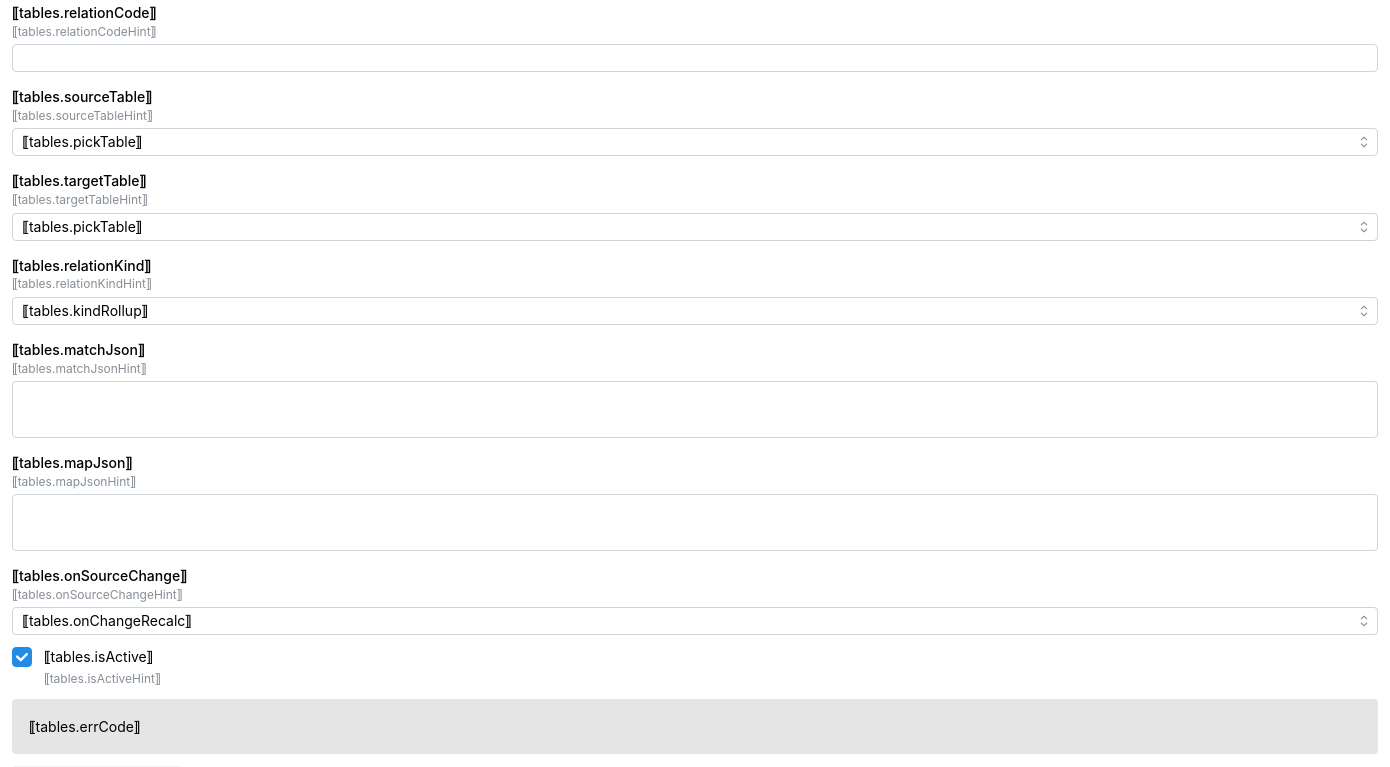
it: RelationForm: «Column mapping» для Kind=Check (аудит-пас 8, lane7, п.12) › перемикання назад із Check на інший Kind знову вмикає поле
Select "⟦tables.kindCheck⟧" in the dropdown labelled "⟦tables.relationKind⟧": (695, 311) [12,297,1378,325]
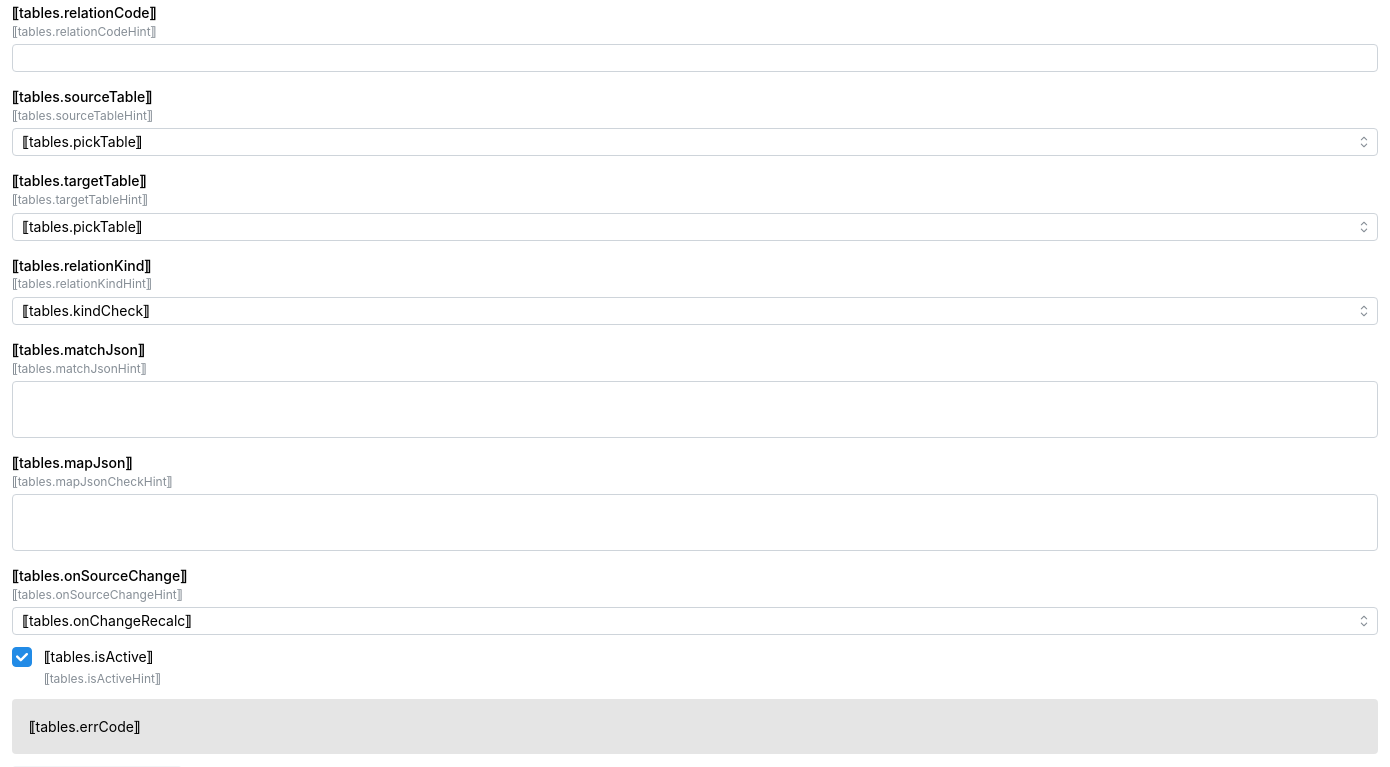
Select "⟦tables.kindMirror⟧" in the dropdown labelled "⟦tables.relationKind⟧": (695, 311) [12,297,1378,325]
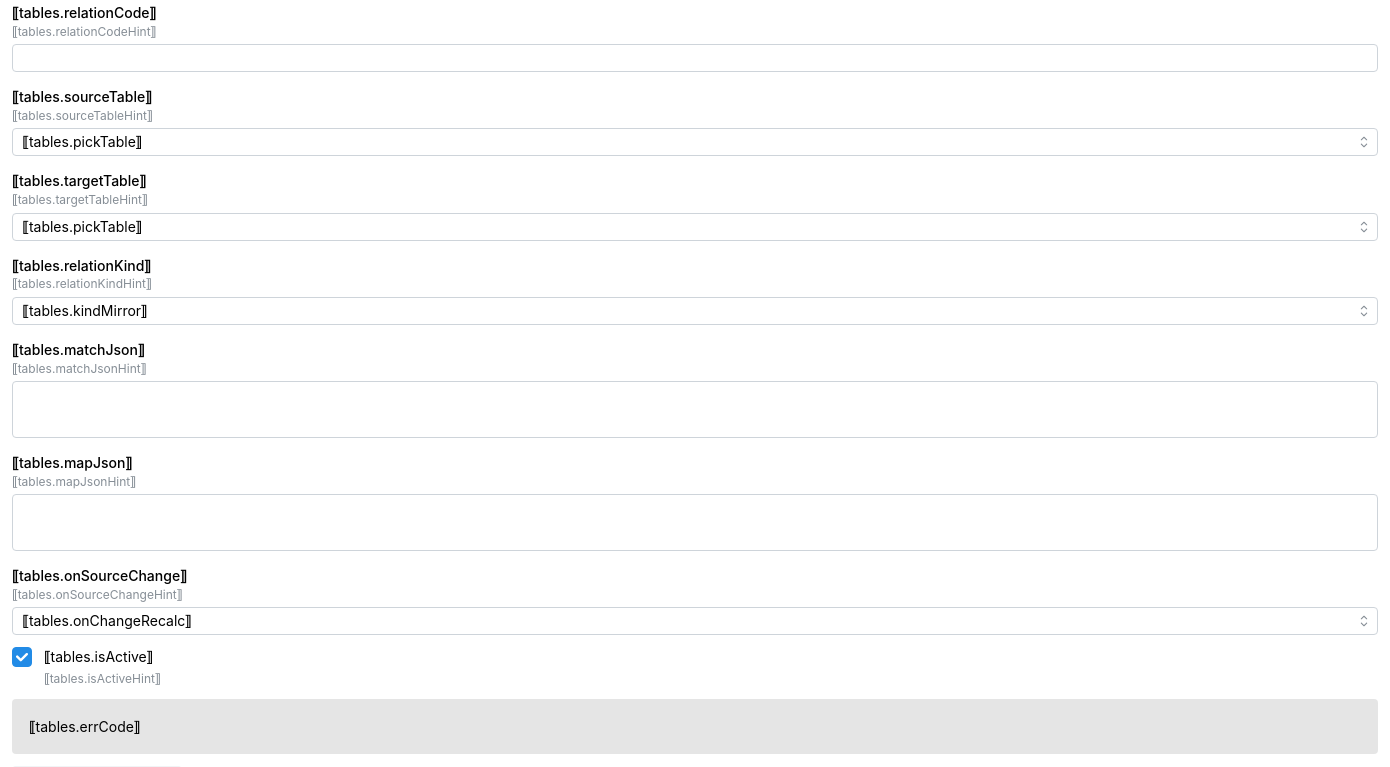
expect the text box labelled "⟦tables.mapJson⟧" is enabled: met, box [12,494,1378,551]
expect the text "⟦tables.mapJsonHint⟧" is shown: met, box [12,474,136,489]
